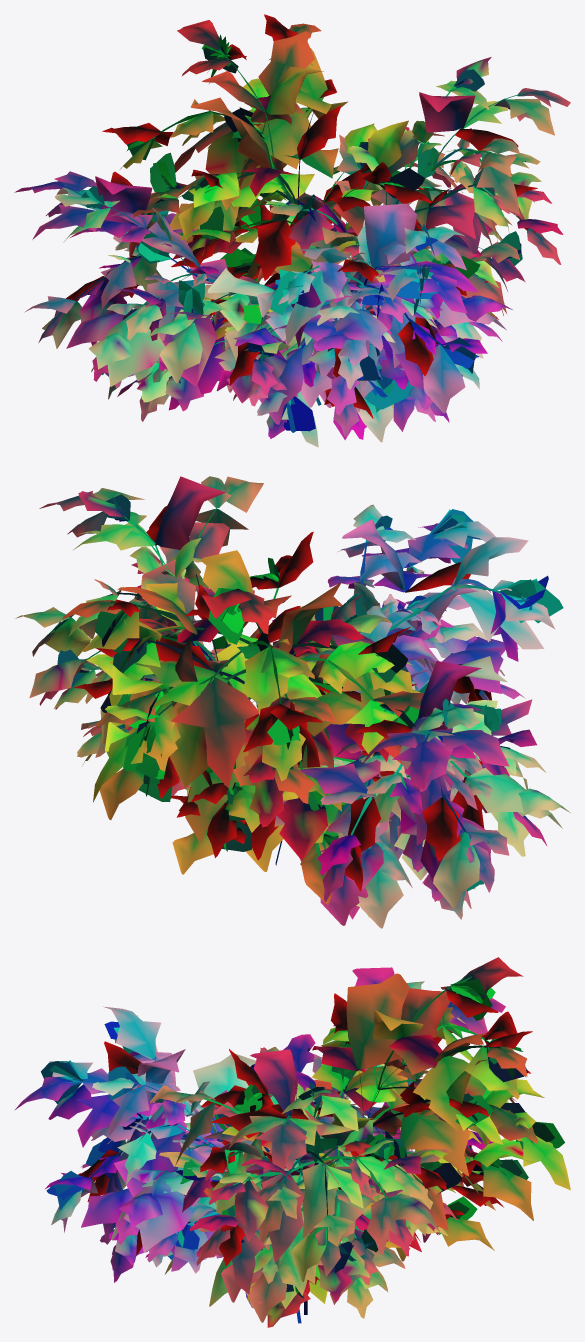
Rendered from Elderberry_wfzobb2ia_Mid_wfzobb2ia_VarB_LOD1.fbx.
3 renders of one model, top to bottom at view 1: azimuth 30°, elevation 25°; view 2: azimuth 150°, elevation 25°; view 3: azimuth 270°, elevation 25°, orthographic. The views are drawn at different scales.
Parts seen in each view (by area): view 1: _wie9_VarB_LOD3; view 2: _wie9_VarB_LOD3; view 3: _wie9_VarB_LOD3.
Boxes of the visible parts, box(x1,y1,x2,y2) form: _wie9_VarB_LOD3: box(14, 14, 570, 447); _wie9_VarB_LOD3: box(15, 476, 570, 928); _wie9_VarB_LOD3: box(14, 957, 570, 1327).
Bounding box in the file's own units: 232 × 148 × 226.
